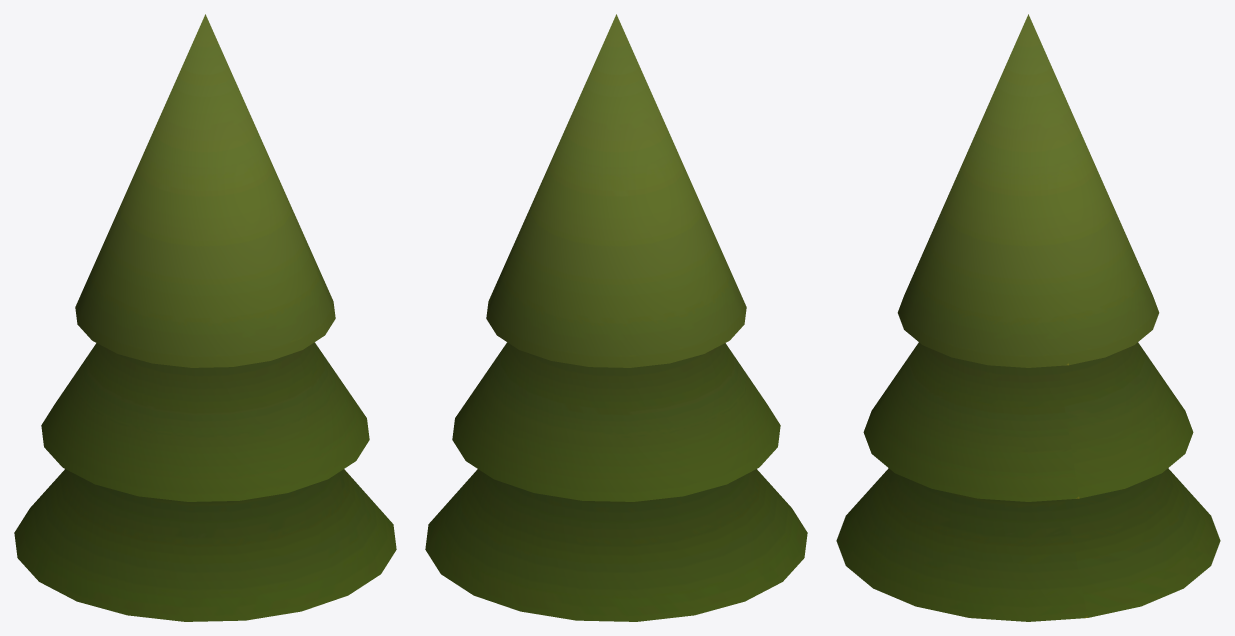
File: MapScenery.fbx
3 views of the same model, side by side, from view 1: azimuth 30°, elevation 25°; view 2: azimuth 150°, elevation 25°; view 3: azimuth 270°, elevation 25° (orthographic).
Parts seen in each view (by area): view 1: Skyscraper_A; view 2: Skyscraper_A; view 3: Skyscraper_A.
Part boxes in pixels (x1,y1,x2,y2): Skyscraper_A: (14,14,396,621); Skyscraper_A: (425,14,807,621); Skyscraper_A: (836,14,1220,621).
Size of the model in its own units: 0.4979 by 0.7535 by 0.4979.
Materials: 1 (1 with a texture image).
